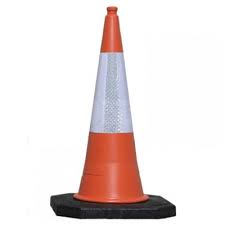cones: (52, 7, 178, 218)
